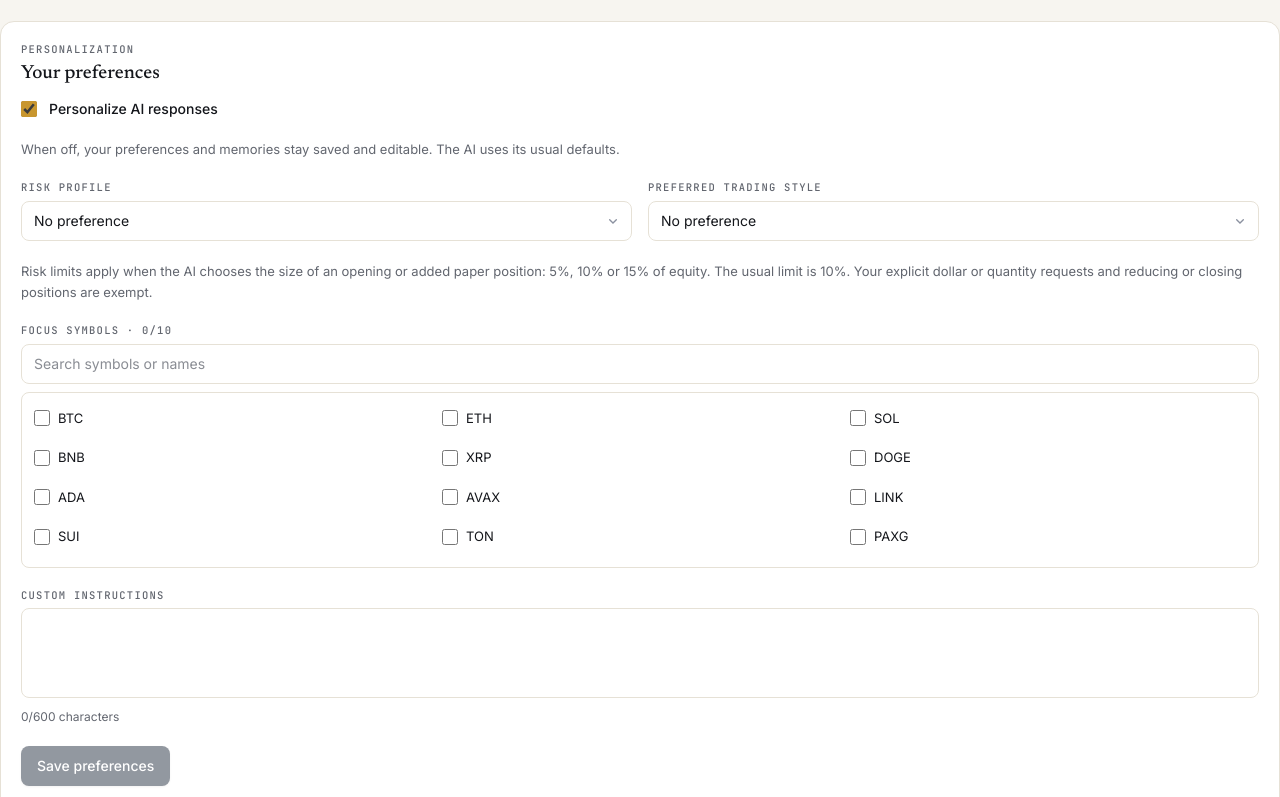
Account personalization › saves all and only explicit preference fields with the server revision, including retained OFF data
Click the checkbox labelled "Personalize AI responses".
click(29, 109)  # box [21,101,37,117]
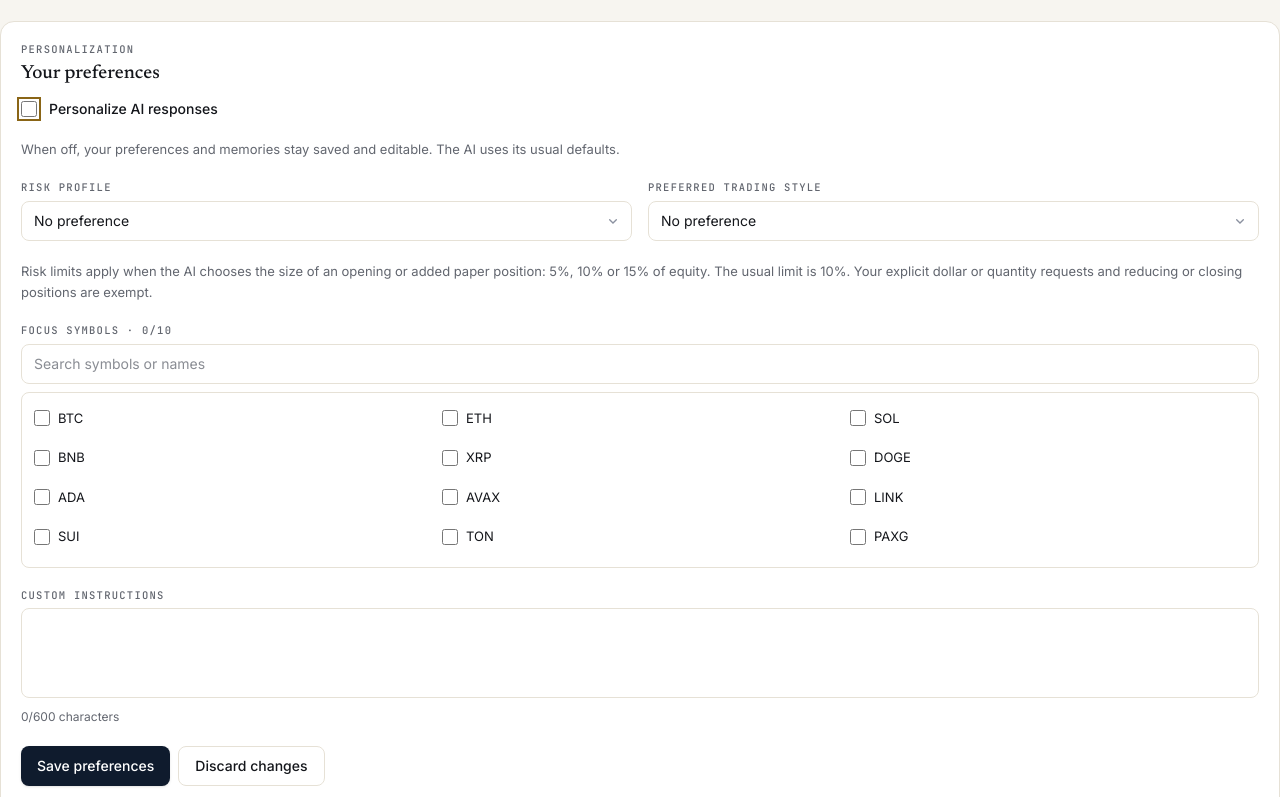
Select "Aggressive · 15%" in the dropdown labelled "Risk profile" at (326, 221), box [21,201,632,241]
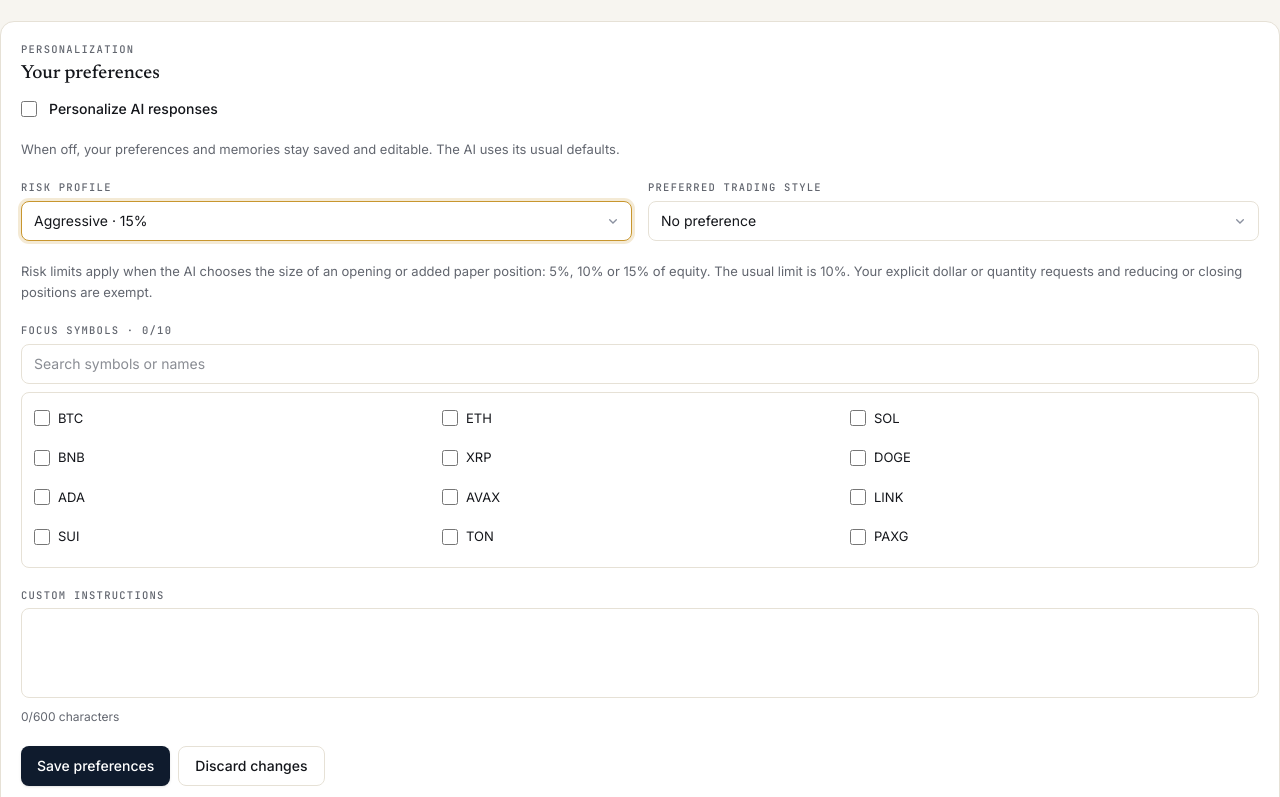
Select "Scalp" in the dropdown labelled "Preferred trading style" at (954, 221), box [648,201,1259,241]
(page scrolled)
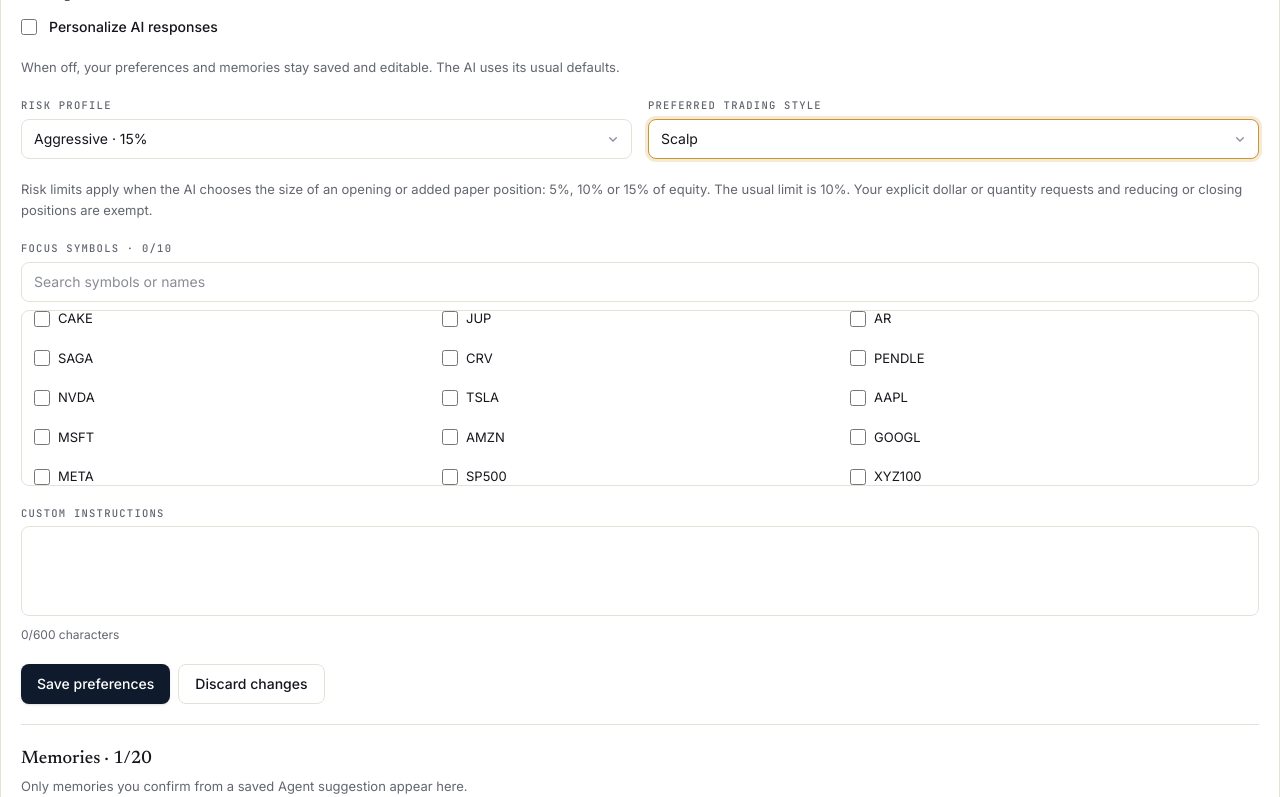
Click the checkbox named "Focus NVDA".
click(42, 398)  # box [34,390,50,406]
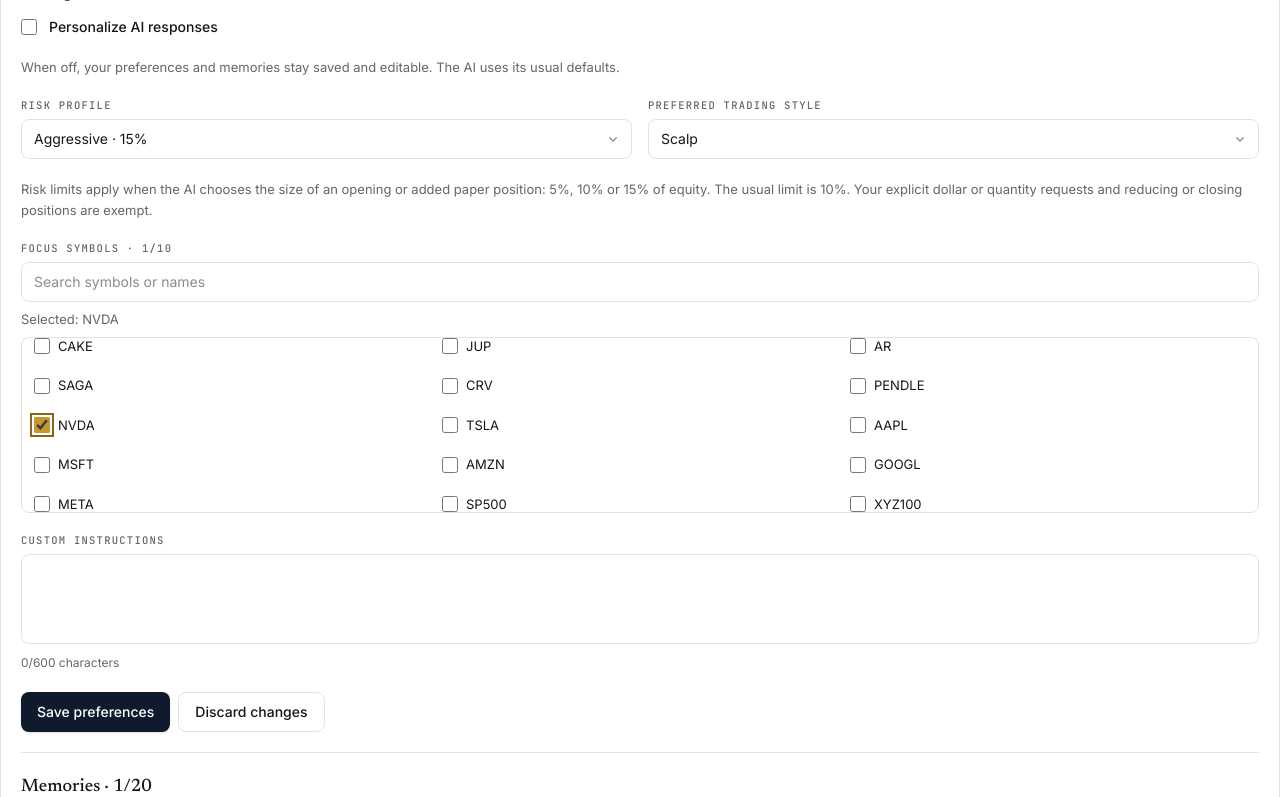
Type "Less noise." into the text box labelled "Custom instructions".
click(640, 599); type("Less noise.")  # box [21,554,1259,644]
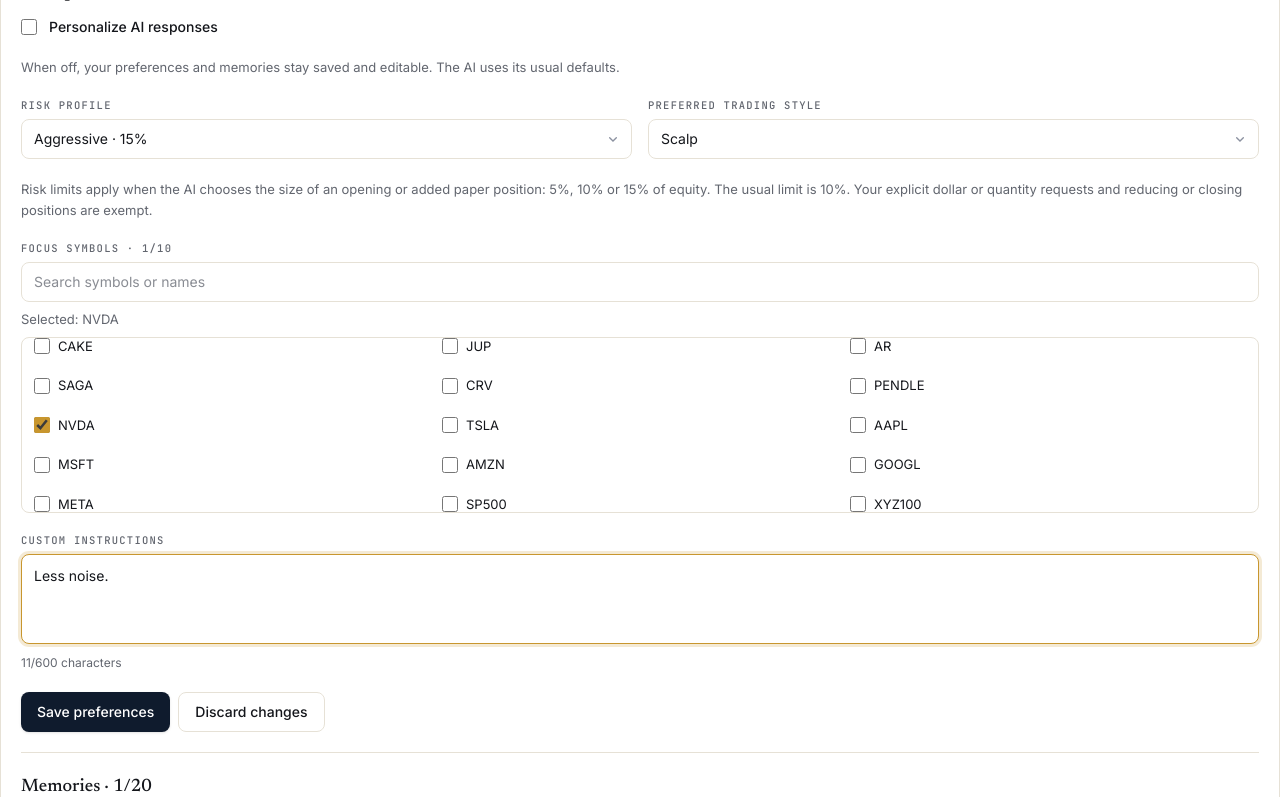
Click the button "Save preferences".
click(96, 712)  # box [21,692,170,732]
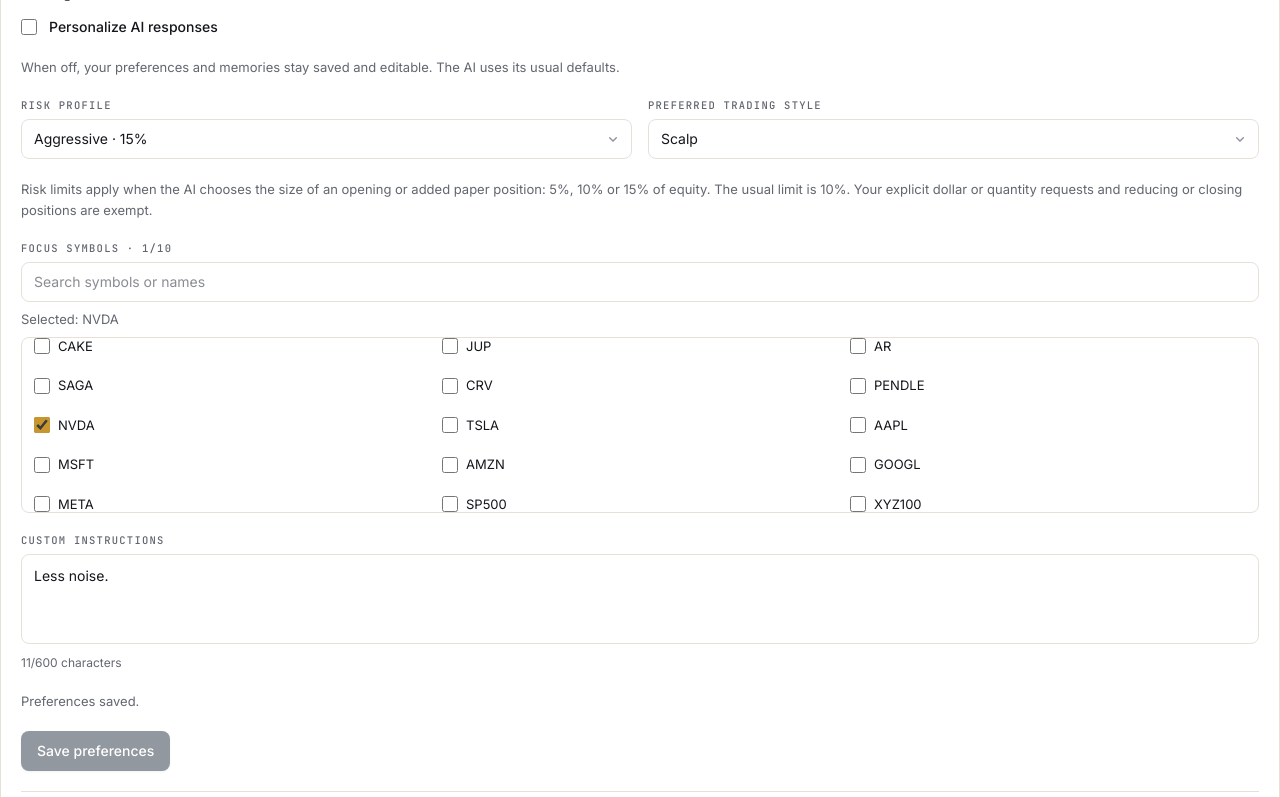
Expected: the text box labelled "Custom instructions" is enabled, [21,554,1259,644]
Now the text "Preferences saved." is shown, box [21,693,139,709]
Now the button "Save preferences" is disabled, box [21,731,170,771]
